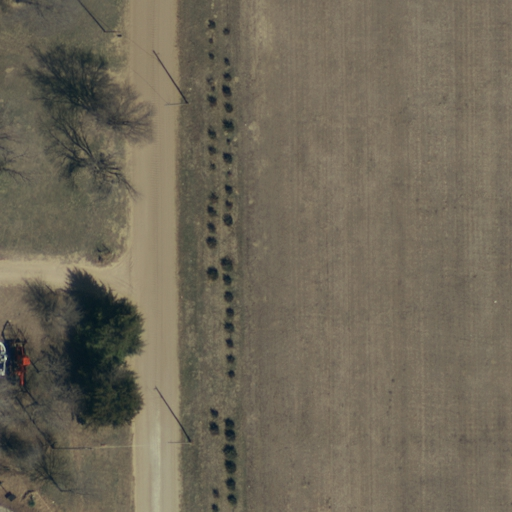DT: (160, 90, 195, 116), (95, 21, 131, 46), (165, 431, 198, 457)
